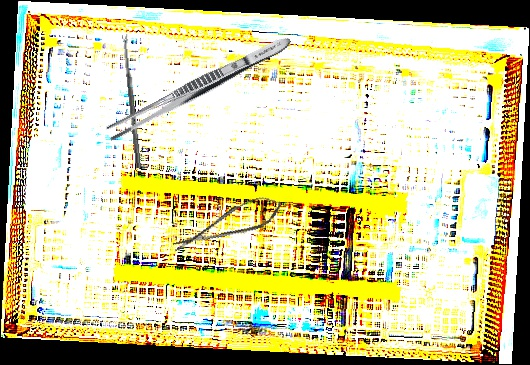Dressing Forceps: (103, 30, 295, 145)
Micro Scissor: (167, 191, 287, 258)
Surgical Spoon: (122, 34, 142, 168)
